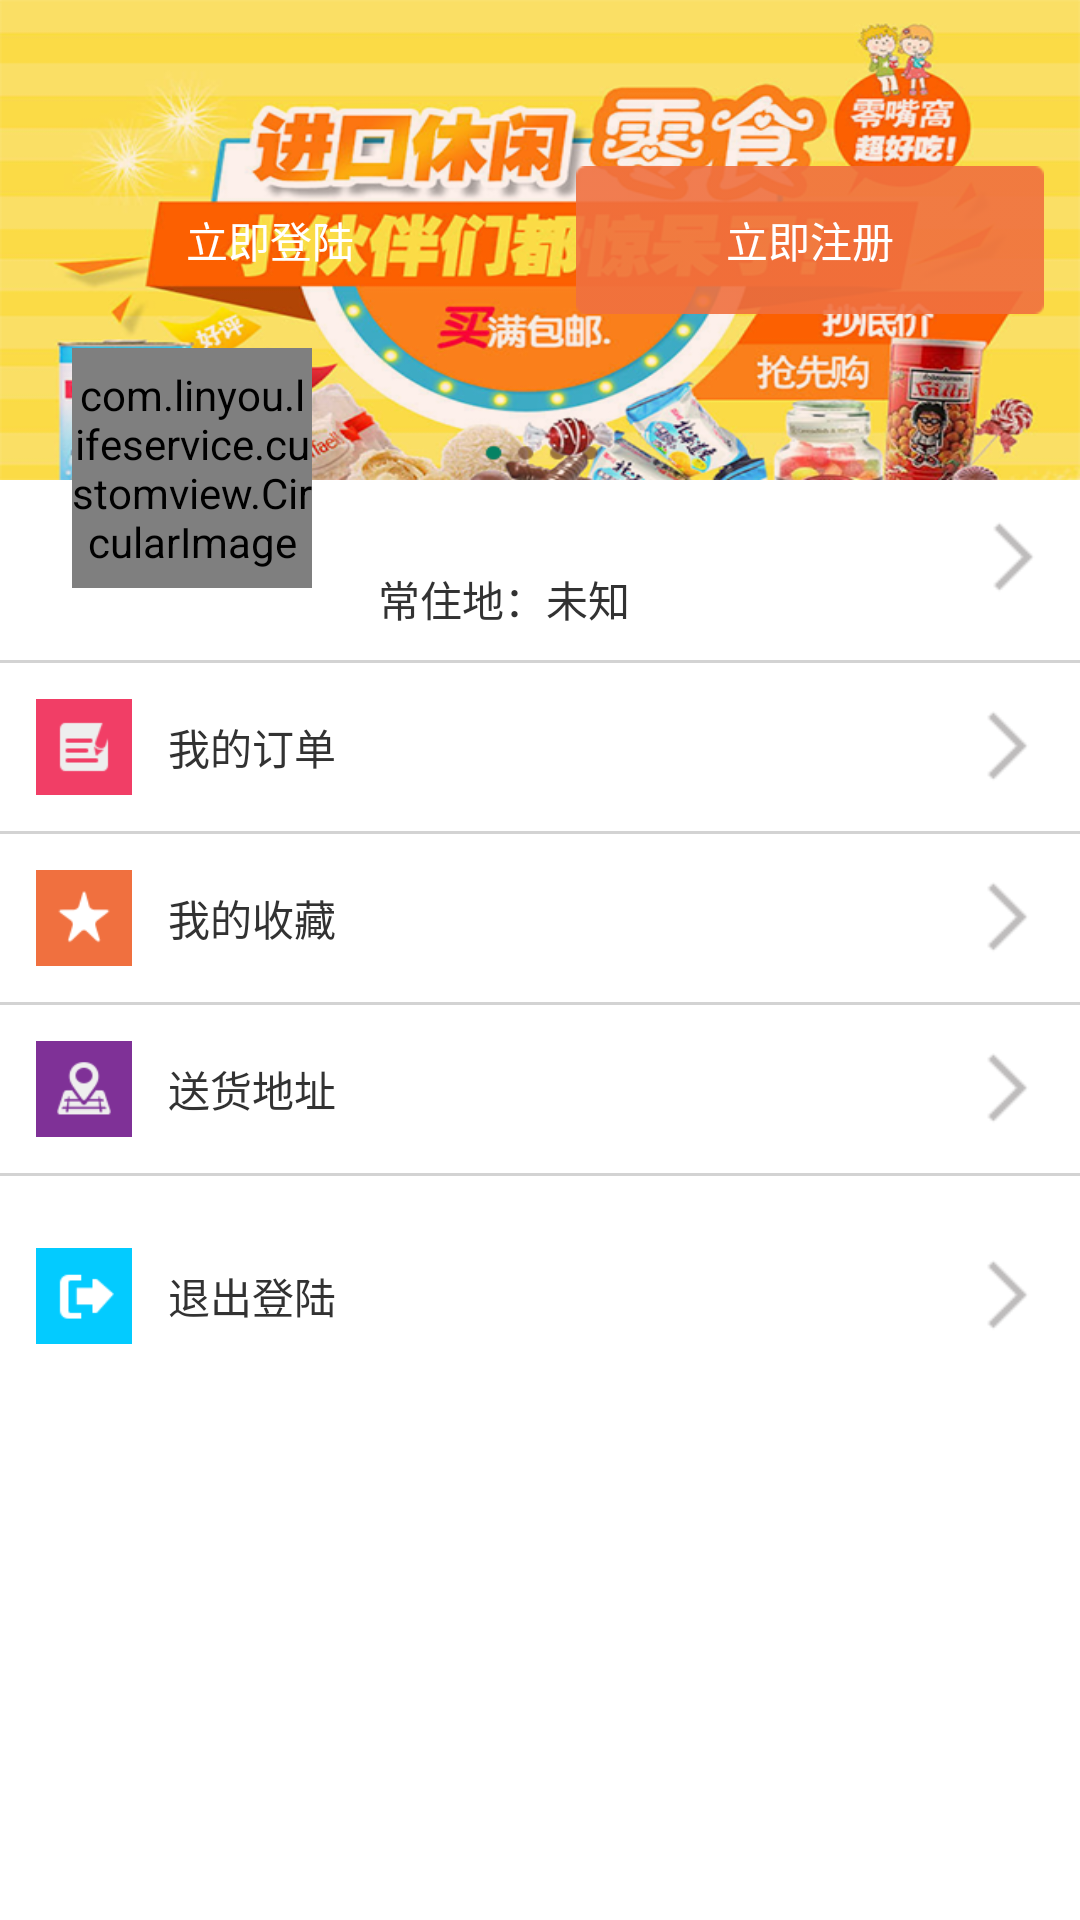

Named icons in this screenshot (1080*1920) and their centers, point (x, y):
addr: point (84, 1089)
arrow right: point (1013, 557), point (1007, 746), point (1007, 917), point (1007, 1088), point (1007, 1295)
exit: point (84, 1296)
mycollection: point (84, 918)
myorder: point (84, 747)
